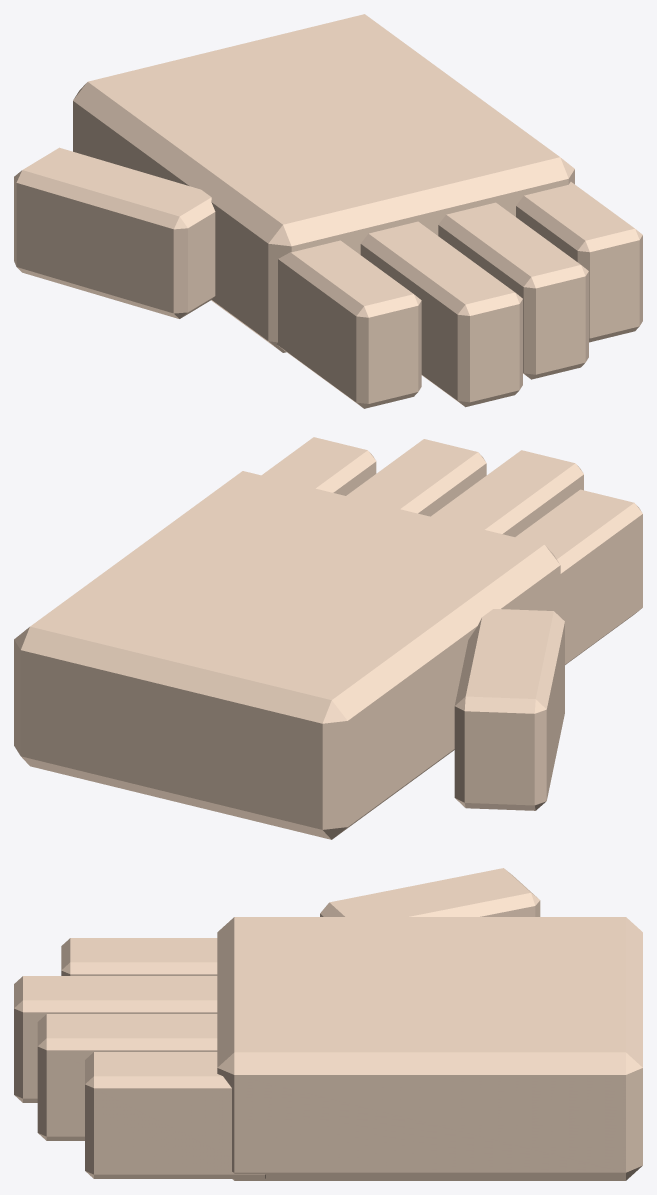
3 views of the same model, one above another, from view 1: azimuth 30°, elevation 25°; view 2: azimuth 150°, elevation 25°; view 3: azimuth 270°, elevation 25° (orthographic). The views are drawn at different scales.
Parts seen in each view (by area): view 1: Hand; view 2: Hand; view 3: Hand.
Boxes of the visible parts, box(x1,y1,x2,y2) form: Hand: box(14, 14, 642, 408); Hand: box(14, 437, 642, 839); Hand: box(14, 868, 642, 1180).
Size of the model in its own units: 0.1043 by 0.03 by 0.133.
